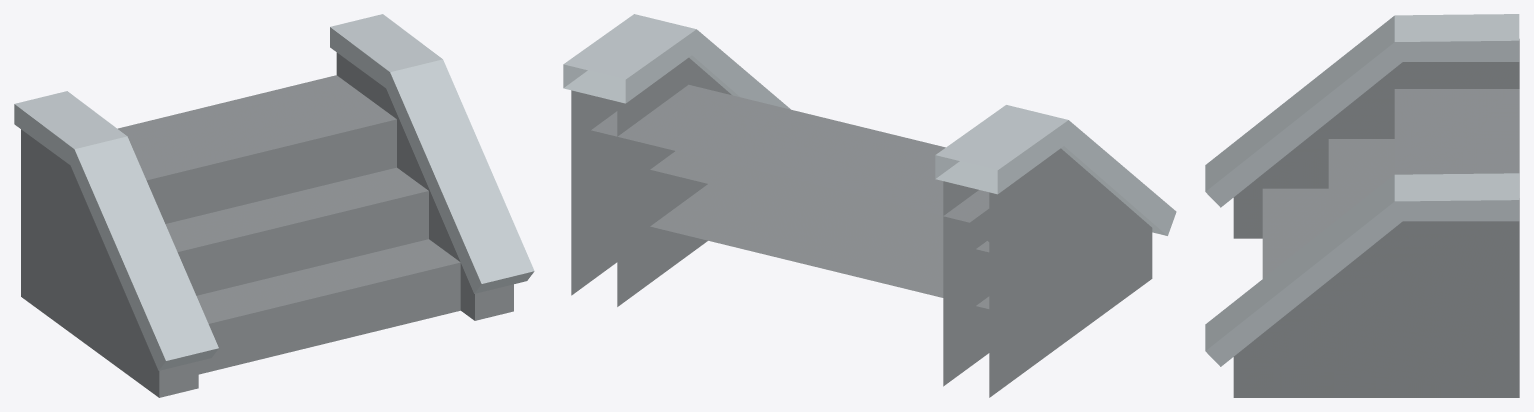
The model's file is Stairs_01.glb.
The picture shows the model from 3 angles, left to right: view 1: azimuth 30°, elevation 25°; view 2: azimuth 150°, elevation 25°; view 3: azimuth 270°, elevation 25°; orthographic projection. The views are drawn at different scales.
Visible parts, largest first — view 1: Stairs_01; view 2: Stairs_01; view 3: Stairs_01.
Boxes of the visible parts, x1,y1,x2,y2 form: Stairs_01: (14, 14, 534, 397); Stairs_01: (563, 14, 1176, 397); Stairs_01: (1205, 14, 1519, 397).
Size of the model in its own units: 2.67 by 1.35 by 1.9.
Materials: 1 (1 with a texture image).
